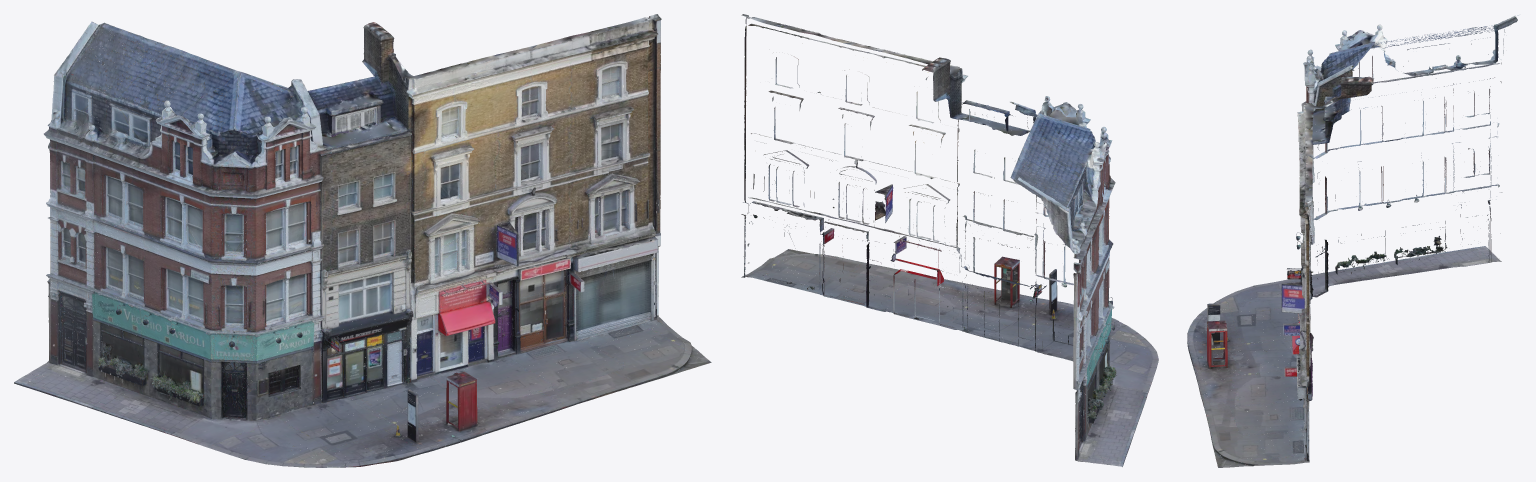
Rendered from aldersgate.glb.
3 renders of one model, left to right at view 1: azimuth 30°, elevation 25°; view 2: azimuth 150°, elevation 25°; view 3: azimuth 270°, elevation 25°, orthographic. The views are drawn at different scales.
Parts seen in each view (by area): view 1: Object_3, Object_4, Object_5, Object_7, Object_6, Object_8, Object_10; view 2: Object_3, Object_5, Object_4, Object_6, Object_7, Object_8, Object_10; view 3: Object_3, Object_5, Object_6, Object_4, Object_8, Object_7, Object_10.
Part boxes in pixels (x1,y1,x2,y2): Object_3: [14, 14, 711, 450]; Object_4: [46, 15, 658, 282]; Object_5: [19, 33, 690, 455]; Object_7: [61, 202, 662, 467]; Object_6: [85, 206, 580, 465]; Object_8: [46, 126, 707, 467]; Object_10: [103, 191, 579, 442]; Object_3: [741, 14, 1123, 466]; Object_5: [744, 35, 1135, 464]; Object_4: [744, 15, 1115, 388]; Object_6: [874, 185, 1158, 433]; Object_7: [763, 186, 1157, 387]; Object_8: [743, 119, 1135, 436]; Object_10: [763, 98, 1114, 417]; Object_3: [1187, 15, 1518, 467]; Object_5: [1187, 148, 1491, 460]; Object_6: [1199, 238, 1428, 410]; Object_4: [1299, 18, 1514, 277]; Object_8: [1187, 122, 1499, 466]; Object_7: [1187, 128, 1463, 457]; Object_10: [1198, 144, 1480, 408].
Bounding box in the file's own units: 21.38 × 12.83 × 13.46.
Materials: 1 (1 with a texture image).
